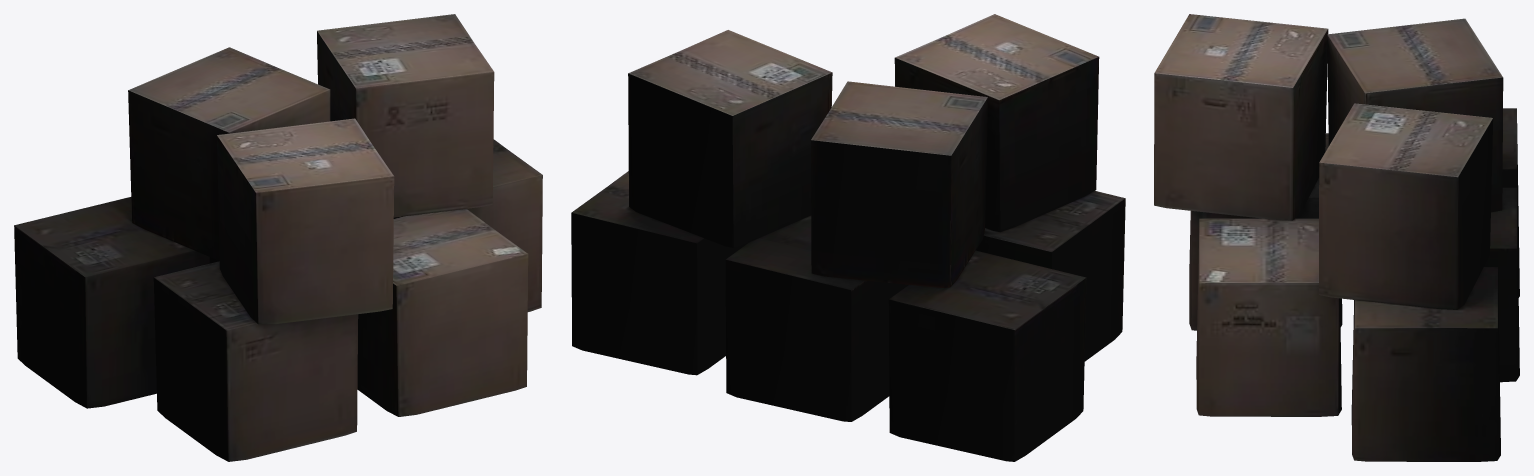
File: boxes_frontroom.glb
3 renders of one model, left to right at view 1: azimuth 30°, elevation 25°; view 2: azimuth 150°, elevation 25°; view 3: azimuth 270°, elevation 25°, orthographic.
Visible parts, largest first — view 1: 0_boxes_frontroom; view 2: 0_boxes_frontroom; view 3: 0_boxes_frontroom.
Boxes of the visible parts, left/top/right/bottom form: 0_boxes_frontroom: left=14, top=14, right=542, bottom=461; 0_boxes_frontroom: left=571, top=14, right=1125, bottom=461; 0_boxes_frontroom: left=1154, top=14, right=1519, bottom=461.
Size of the model in its own units: 2.89 by 1.63 by 2.03.
1 material, 1 textured.
